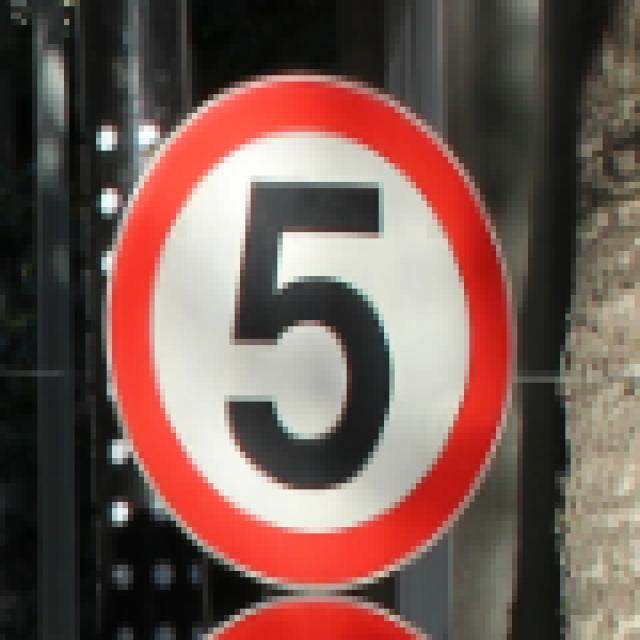Speed: (99, 59, 533, 596)
